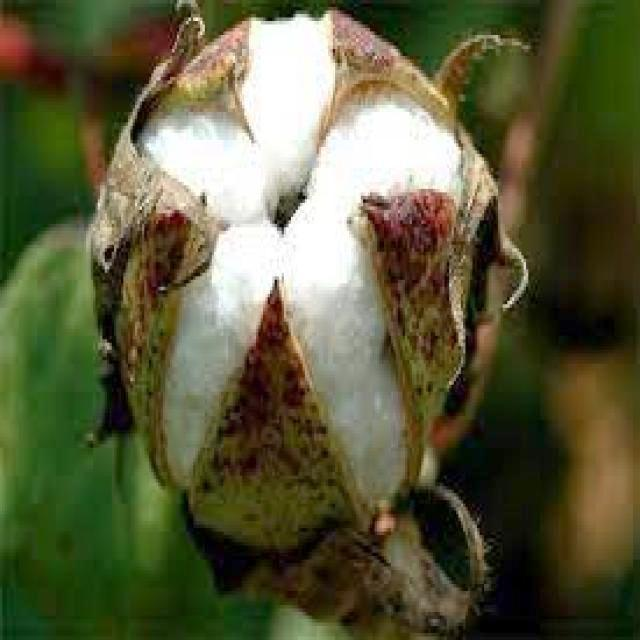Split Cotton Boll: (93, 9, 499, 563)
